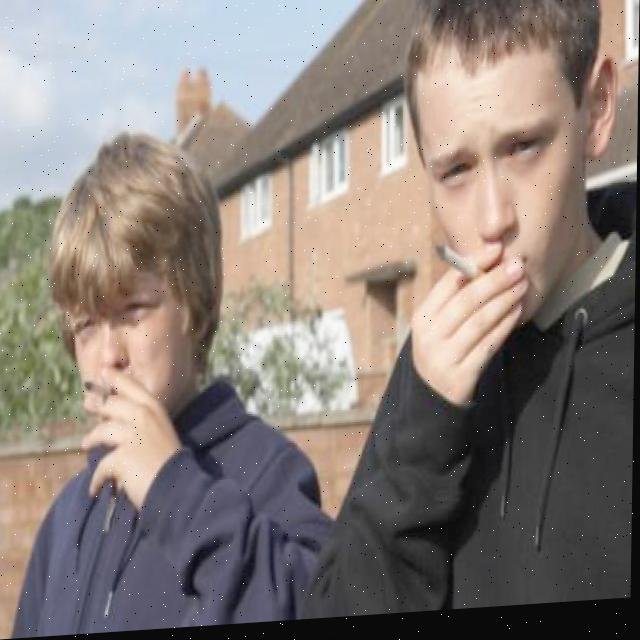cigarette: (439, 246, 486, 289), (85, 382, 119, 401)
